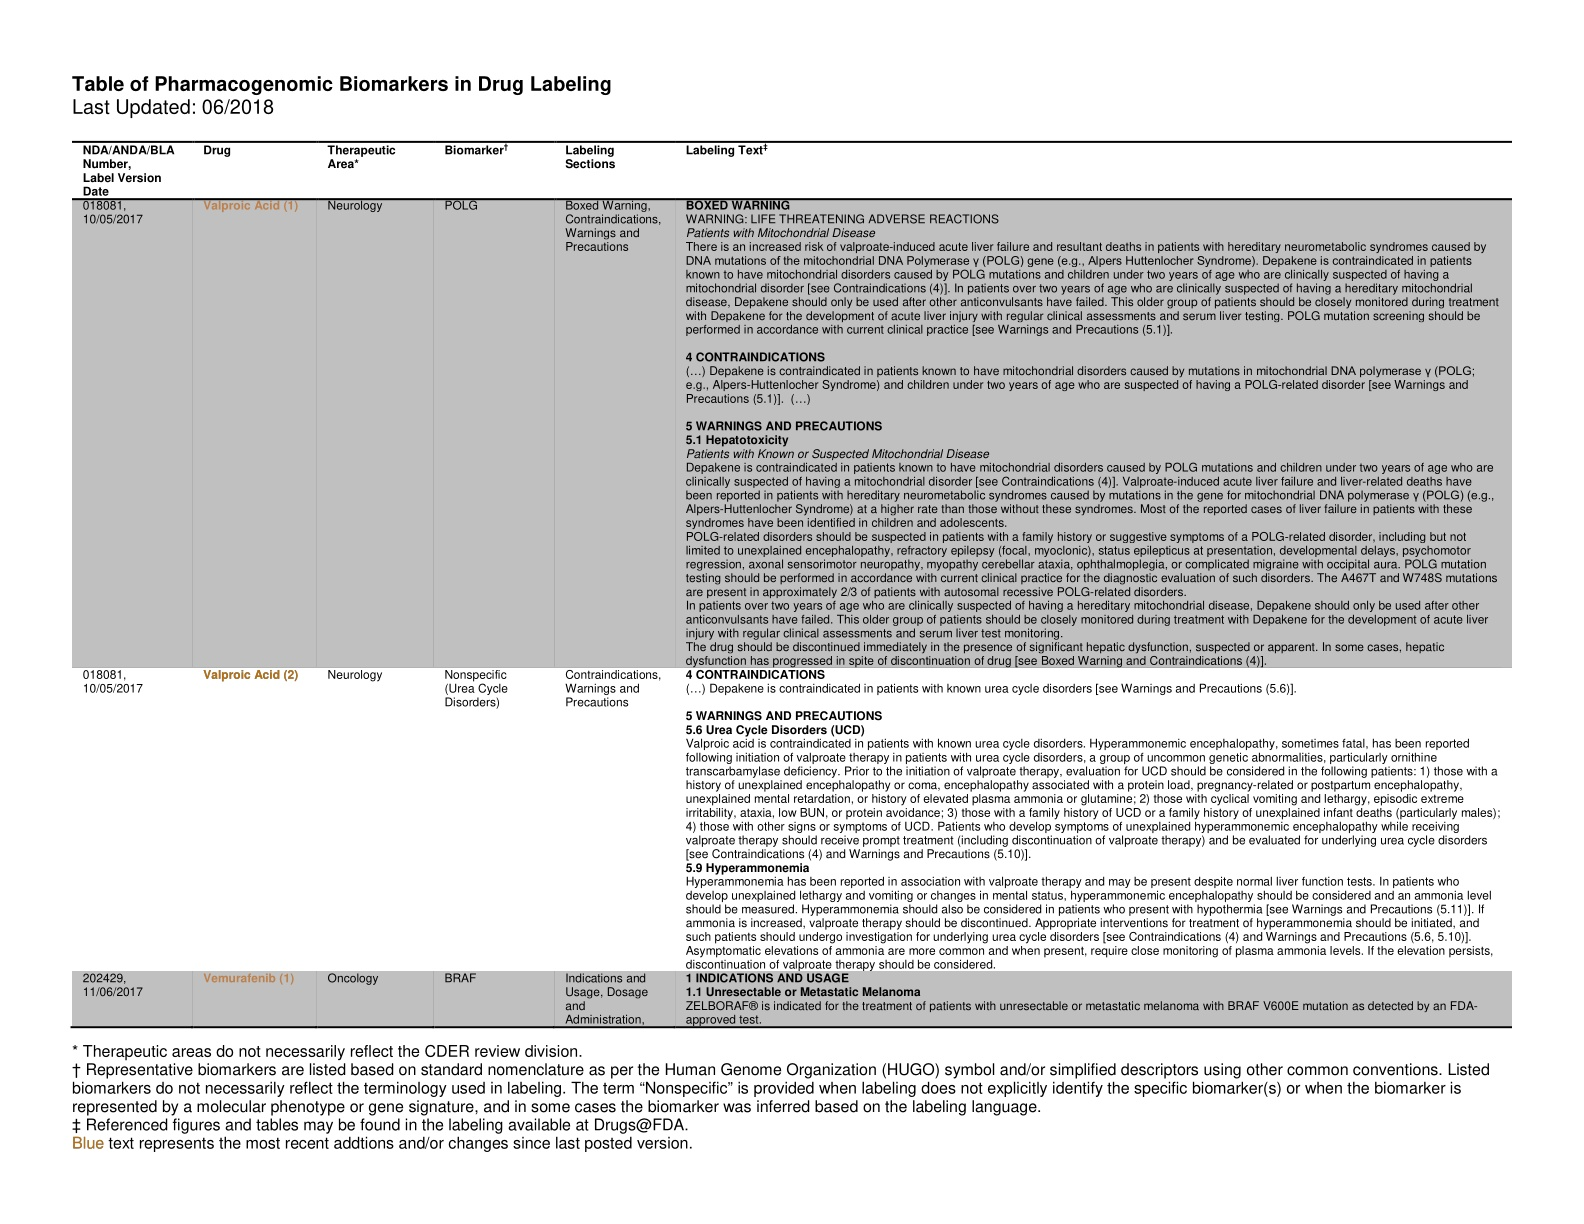full_lined: (71, 140, 1512, 1029)
